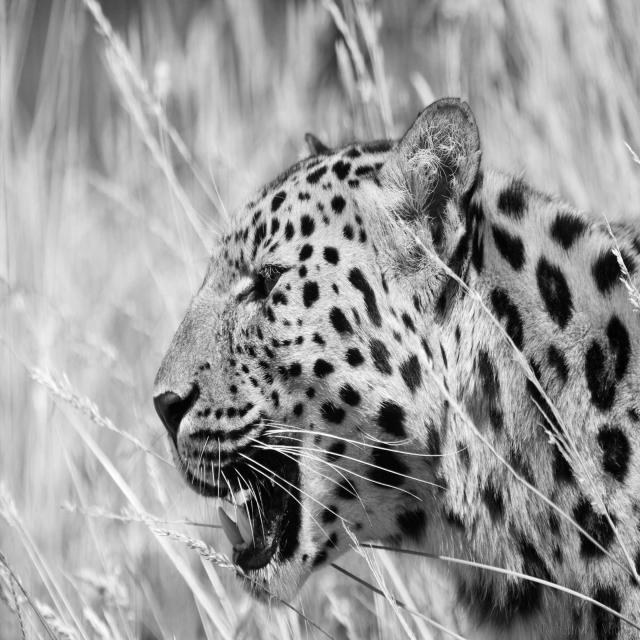Leopard: (152, 94, 639, 638)
